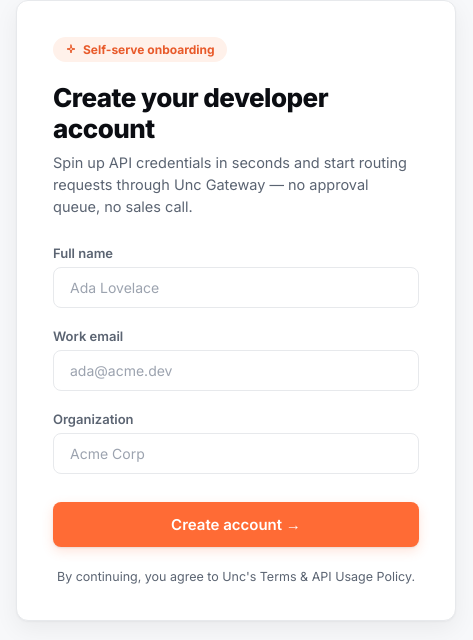
Scenario: SignupForm Component › renders confirmation view with success accent when submission succeeds
This screenshot has width=473, height=640.
Type "Grace Hopper" into the field labelled "Full name". click: x=236, y=288
box: [53, 267, 419, 308]
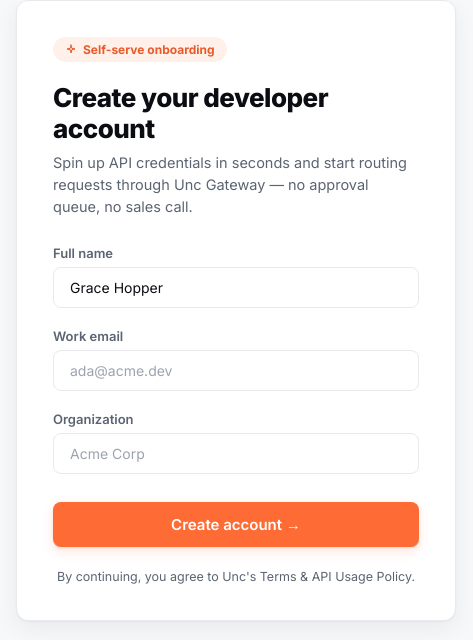
Type "grace@navy.gov" into the field labelled "Work email". click: x=236, y=371
box: [53, 350, 419, 391]
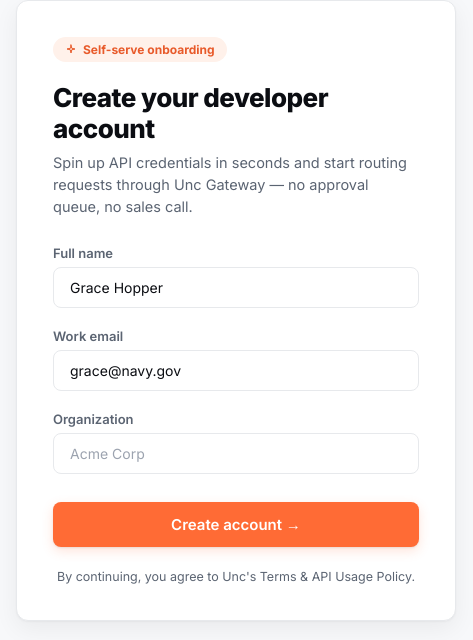
Type "US Navy" into the field labelled "Organization". click: x=236, y=454
box: [53, 433, 419, 474]
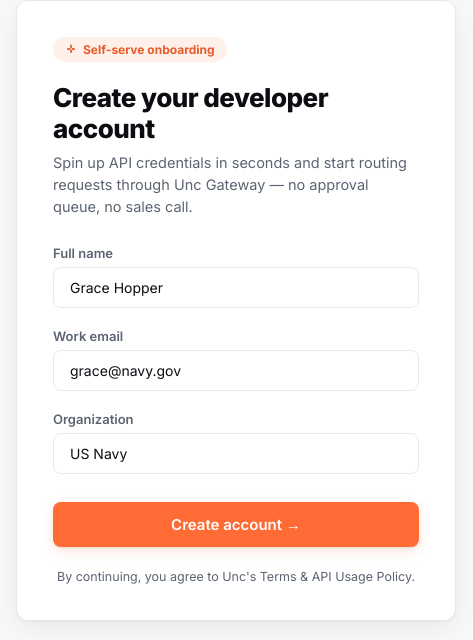
Click the button "Create account →". click: x=236, y=525
box: [53, 502, 419, 547]
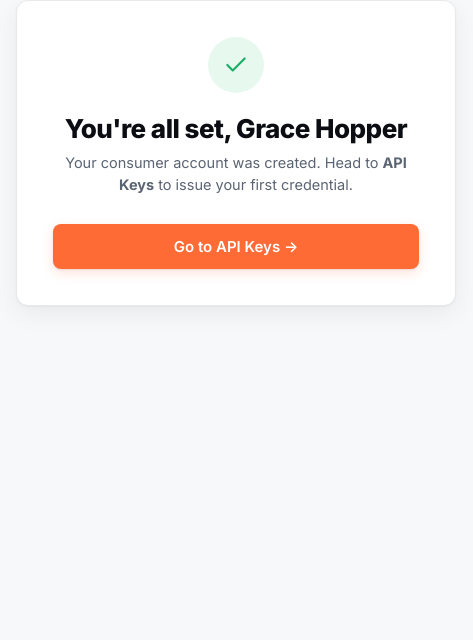
Expected: the element with test id "signup-success-view" is shown, [16, 0, 456, 306]
Expected: the heading "You're all set, Grace Hopper" is shown, [53, 113, 419, 144]
Expected: the text "Your consumer account was created. Head to" is shown, [65, 154, 383, 171]
